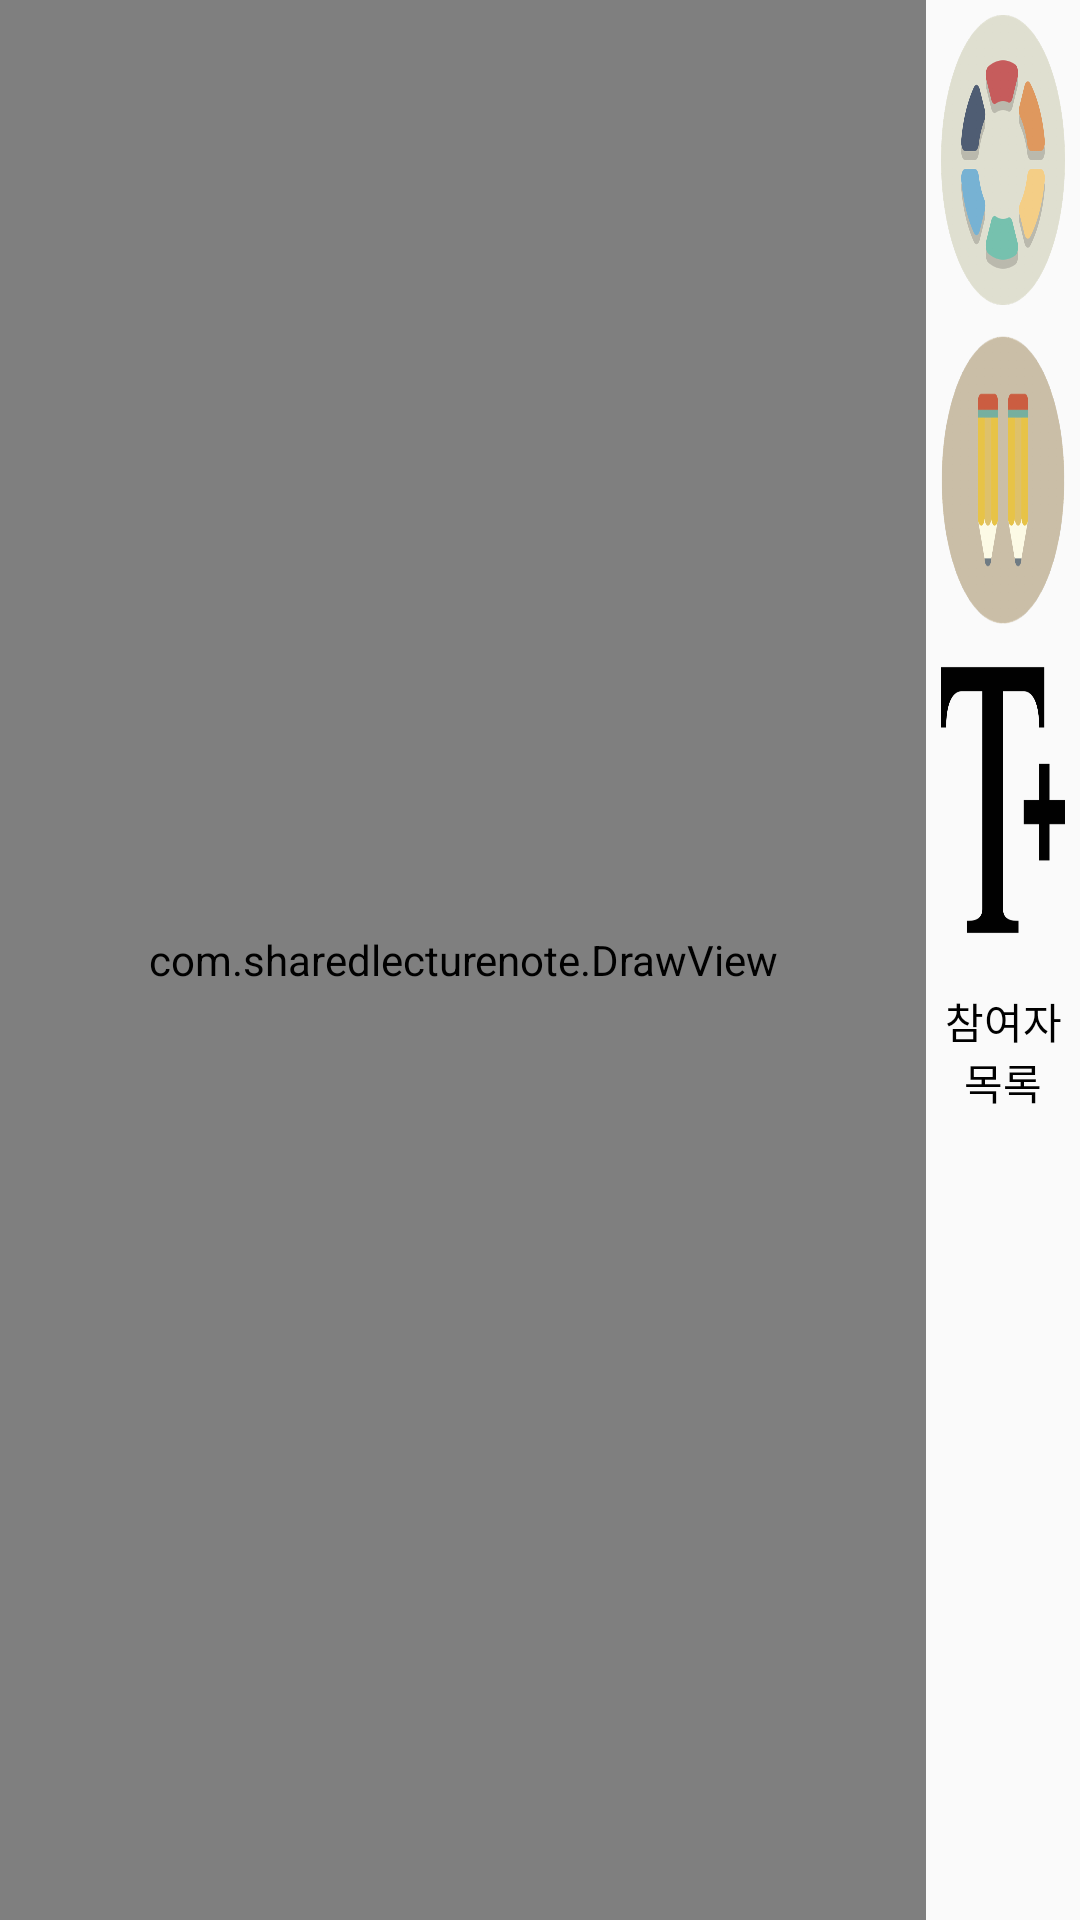

Icon click points for this 1080*1920 phone screenshot, format [x,y]:
colorpick: [1003,160]
penselect: [1003,480]
text: [1003,800]
